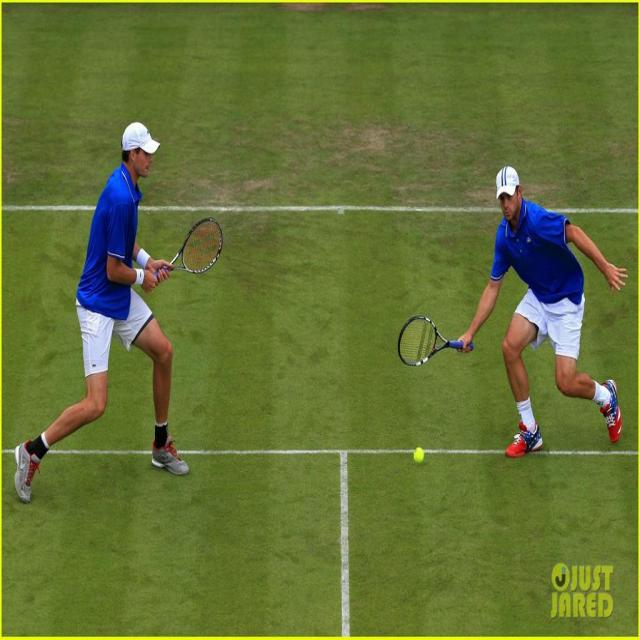nomask: (498, 186, 518, 220), (136, 140, 152, 176)
